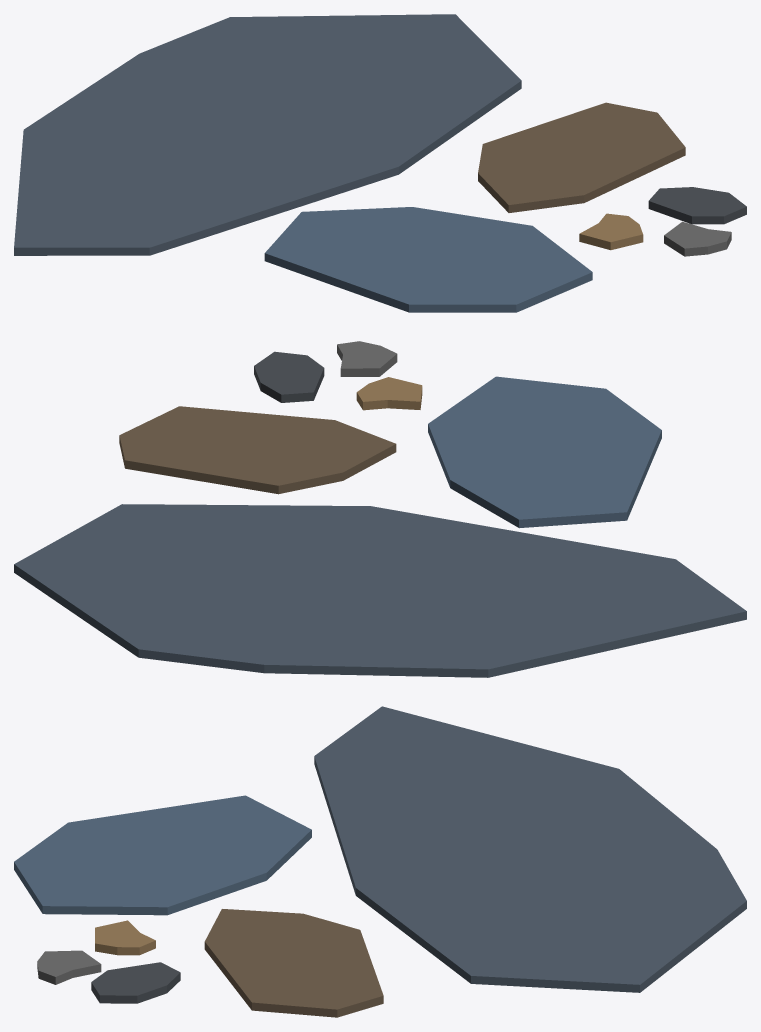
The model's file is AW_Stone01.fbx.
3 views of the same model, one above another, from view 1: azimuth 30°, elevation 25°; view 2: azimuth 150°, elevation 25°; view 3: azimuth 270°, elevation 25° (orthographic). The views are drawn at different scales.
Visible parts, largest first — view 1: AW_Stone01; view 2: AW_Stone01; view 3: AW_Stone01.
Boxes of the visible parts, <box> form: AW_Stone01: <box>14,14,746,312</box>; AW_Stone01: <box>14,341,746,677</box>; AW_Stone01: <box>14,706,746,1017</box>.
Bounding box in the file's own units: 156 × 1.93 × 159.
1 material, 1 textured.
